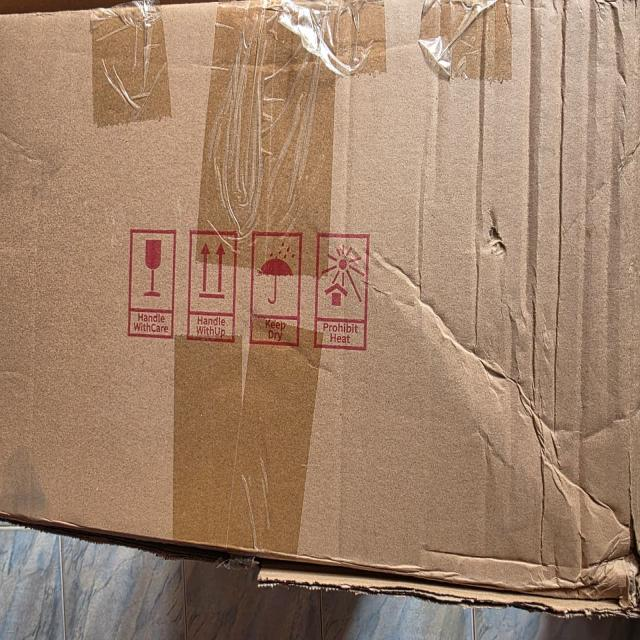carton_box: (0, 0, 640, 630)
fragile_label: (124, 226, 180, 340)
keep_dry_label: (243, 216, 306, 350)
package_damage: (0, 494, 640, 634), (474, 174, 526, 282)
protect_from_heat_label: (314, 231, 374, 366)
this_side_up_label: (185, 223, 240, 355)
